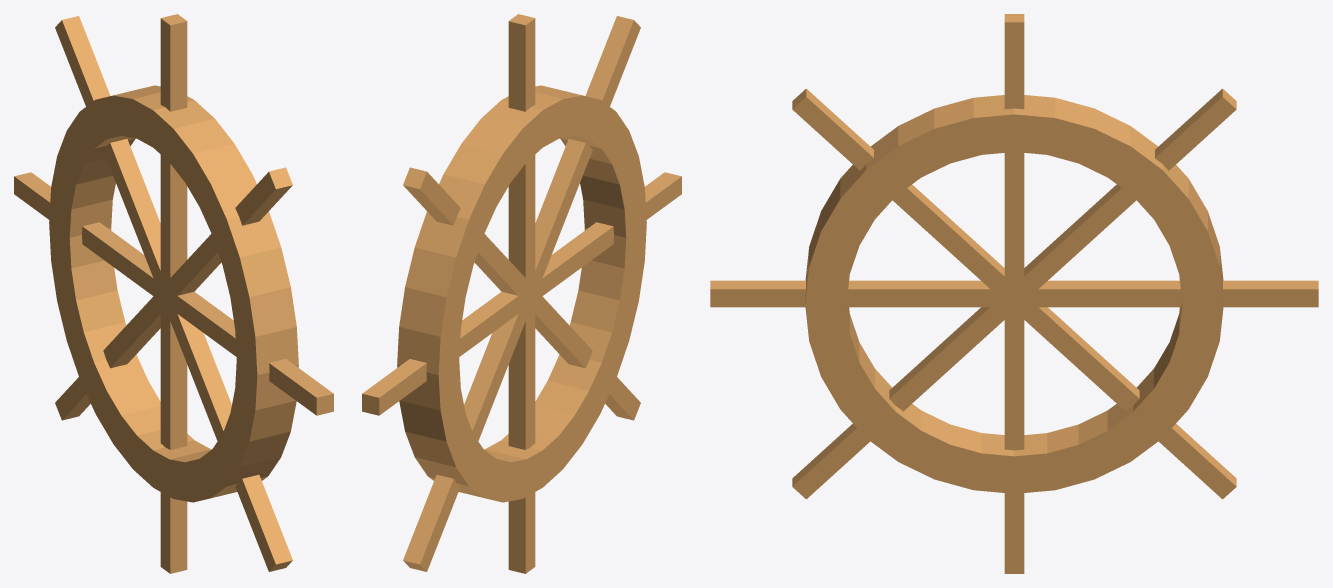
Rendered from ship_wheel.fbx.
The picture shows the model from 3 angles, left to right: view 1: azimuth 30°, elevation 25°; view 2: azimuth 150°, elevation 25°; view 3: azimuth 270°, elevation 25°; orthographic projection.
Parts seen in each view (by area): view 1: Cube.001; view 2: Cube.001; view 3: Cube.001.
Boxes of the visible parts, box(x1,y1,x2,y2) form: Cube.001: box(14, 14, 333, 573); Cube.001: box(362, 14, 681, 573); Cube.001: box(710, 14, 1318, 573).
Size of the model in its own units: 23.02 by 291 by 291.
